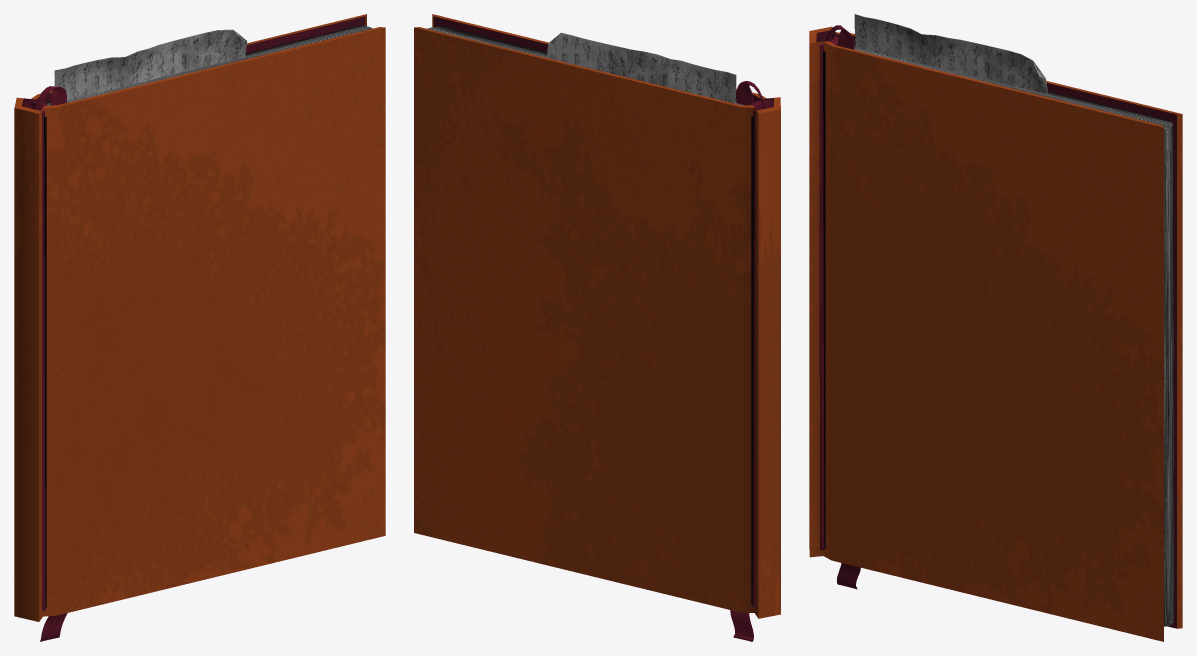
The model's file is book01.fbx.
3 views of the same model, side by side, from view 1: azimuth 30°, elevation 25°; view 2: azimuth 150°, elevation 25°; view 3: azimuth 330°, elevation 25° (orthographic).
Visible parts, largest first — view 1: pCube9, paper, pages2, spine1, ribbon; view 2: pCube9, paper, pages2, spine1, ribbon; view 3: pCube9, pages2, paper, spine1, ribbon.
Boxes of the visible parts, left/top/right/bottom form: pCube9: left=14, top=14, right=385, bottom=621; paper: left=54, top=29, right=247, bottom=100; pages2: left=44, top=25, right=372, bottom=607; spine1: left=24, top=101, right=47, bottom=611; ribbon: left=34, top=86, right=67, bottom=641; pCube9: left=414, top=14, right=780, bottom=618; paper: left=546, top=33, right=736, bottom=103; pages2: left=427, top=26, right=753, bottom=604; spine1: left=750, top=100, right=773, bottom=607; ribbon: left=730, top=81, right=765, bottom=641; pCube9: left=809, top=26, right=1182, bottom=641; pages2: left=823, top=45, right=1173, bottom=626; paper: left=854, top=14, right=1047, bottom=94; spine1: left=819, top=32, right=838, bottom=549; ribbon: left=825, top=25, right=860, bottom=589.
Bounding box in the file's own units: 0.6338 × 0.9523 × 0.0674.
